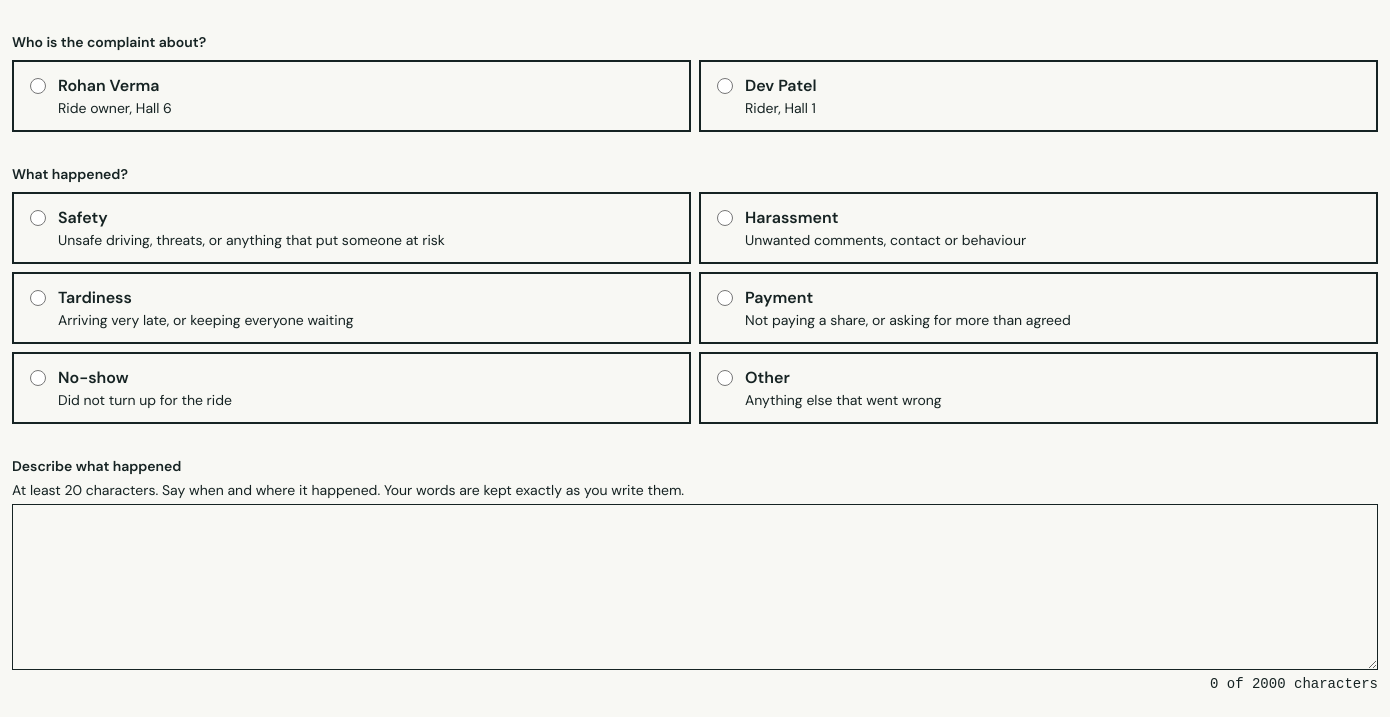
Scenario: ComplaintForm (FR-RD-13.1 to 13.6, CS455-53) › shows the emergency numbers when Safety is chosen (FR-RD-13.6)
This screenshot has width=1390, height=717.
Step 1. Click the radio button labelled "Safety" → (38, 218), box [30, 210, 46, 226]
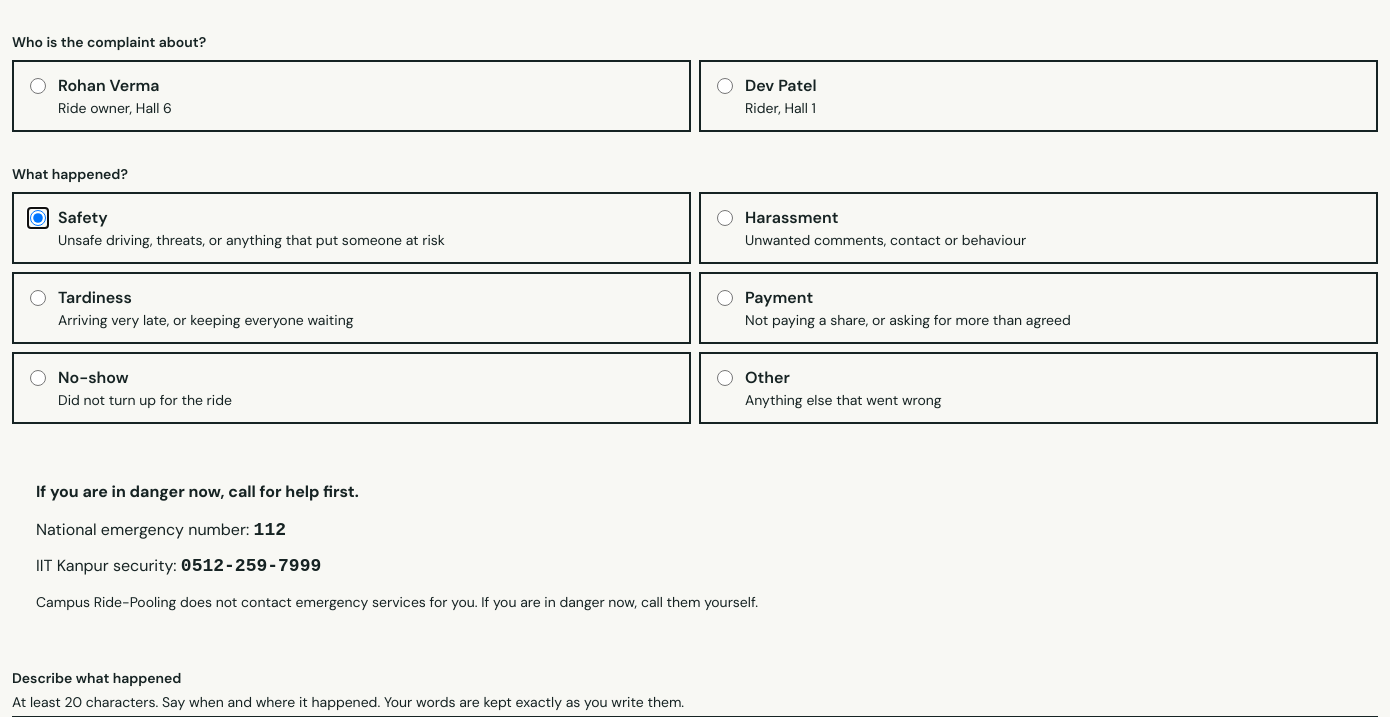
expect the element named "Emergency contacts" shows "does not contact emergency services for you": met, box [36, 593, 758, 611]
